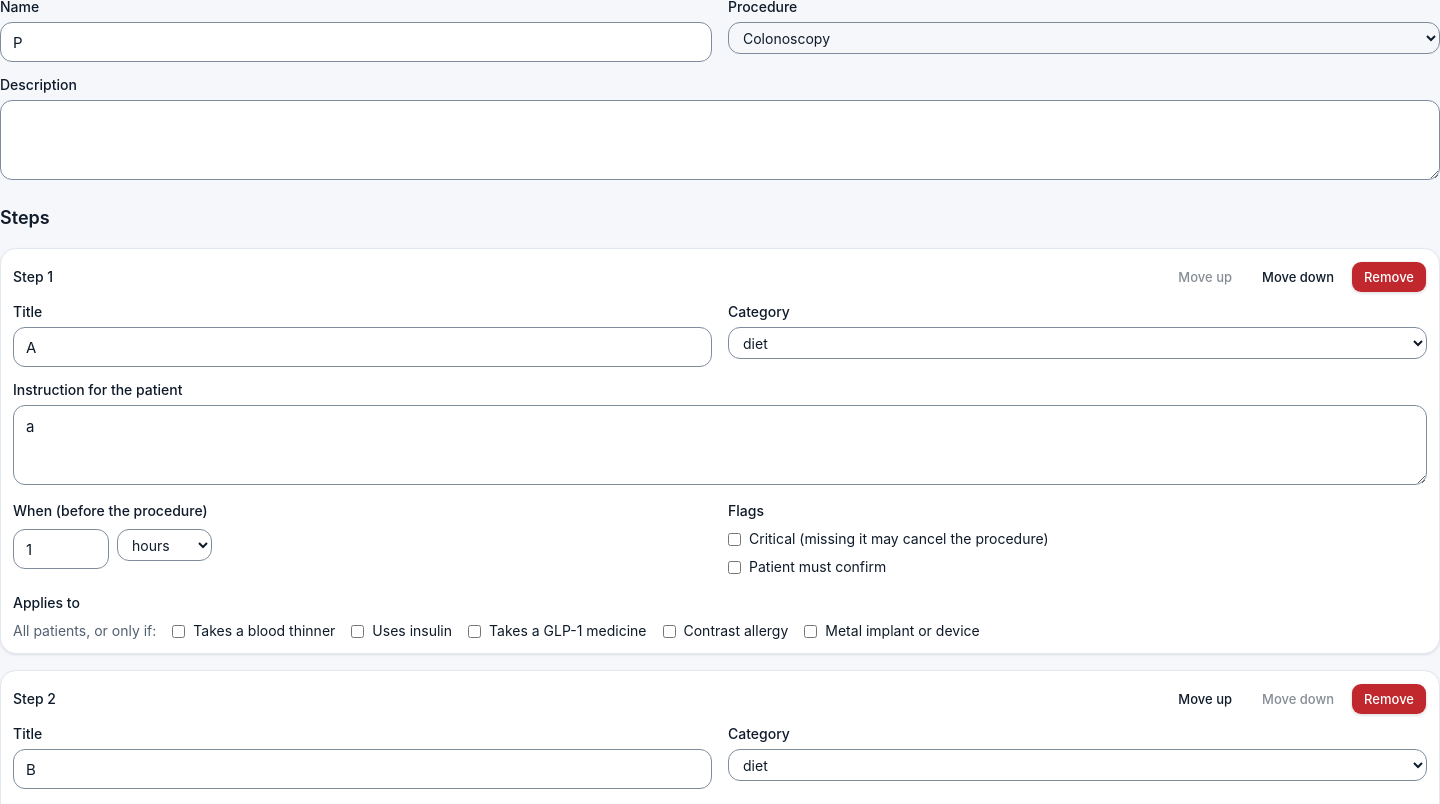
ProtocolEditor › reorders and removes steps
The width and height of the screenshot is (1440, 804).
Click the 2nd button "Move up".
click(1205, 699)  # box left=1165, top=683, right=1245, bottom=715
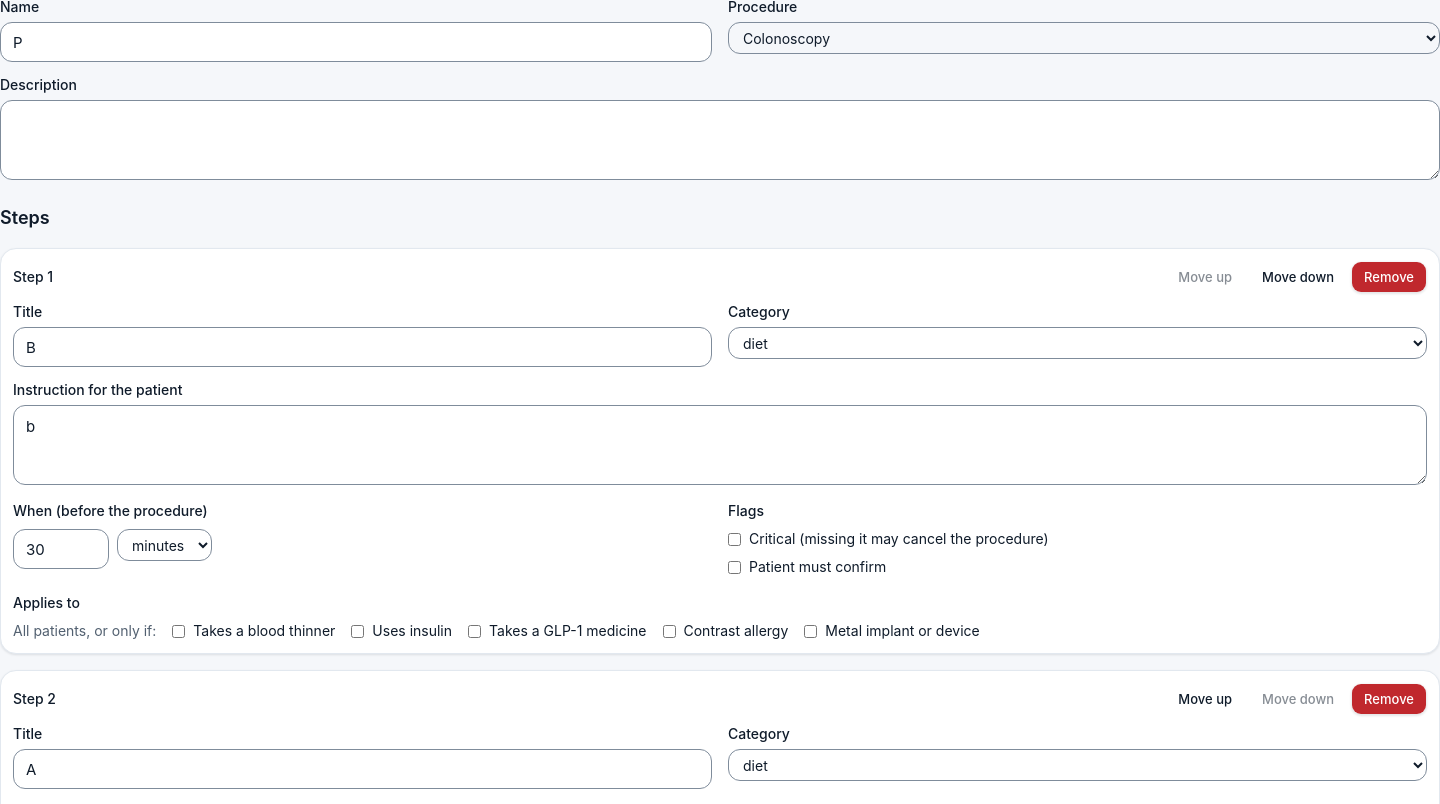
Click the 1st button "Remove".
click(1389, 277)  # box left=1351, top=261, right=1427, bottom=293
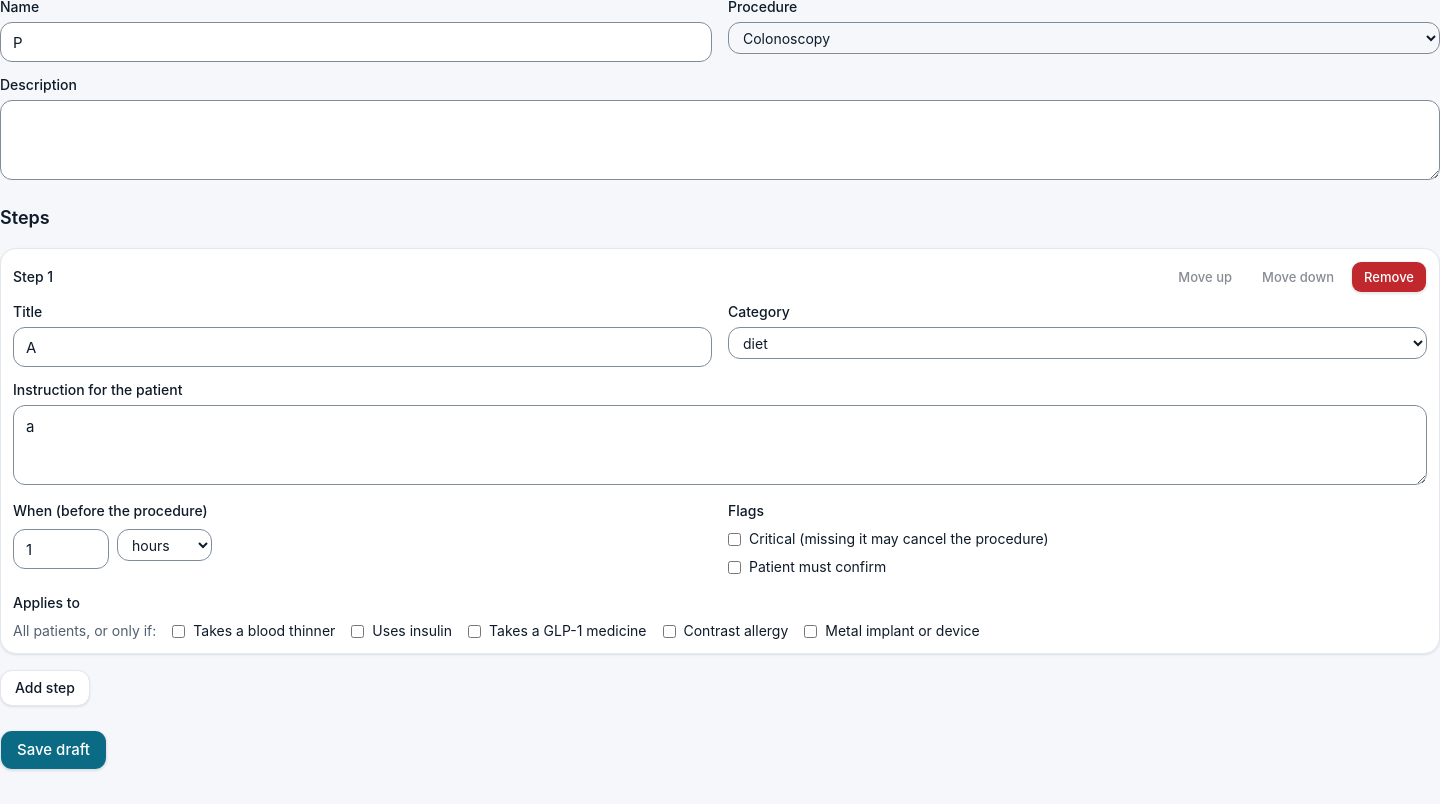
Result: the number of elements "Step 1" is 1 at left=0, top=248, right=1439, bottom=654
